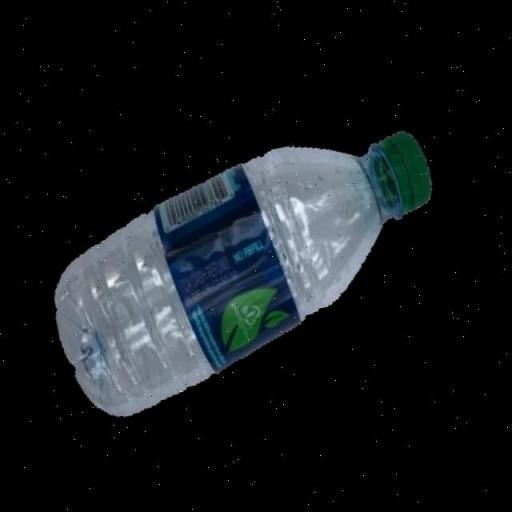plastic: (29, 118, 466, 426)
